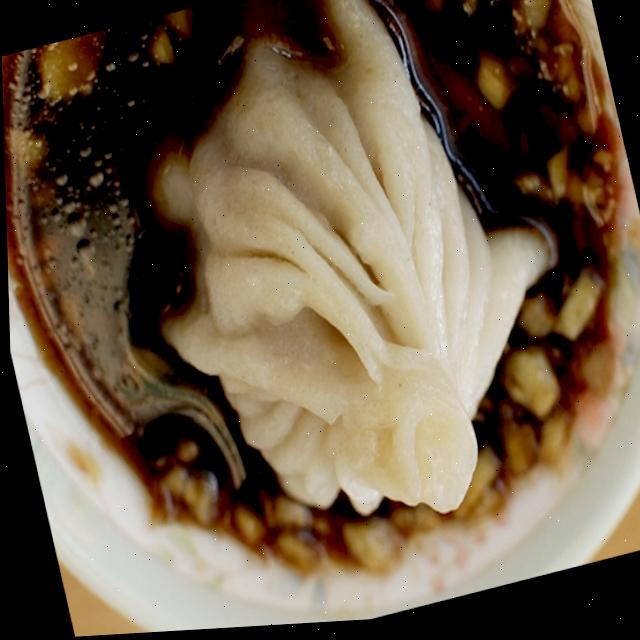带馅早点: (7, 0, 640, 640)
